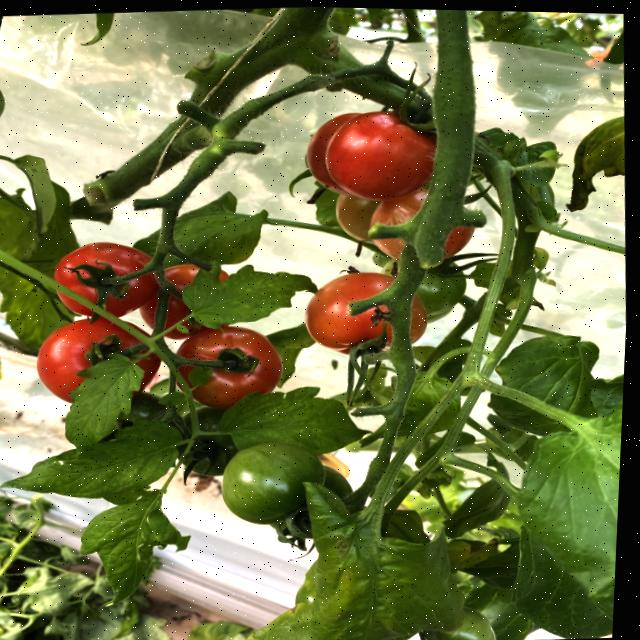ripe2: (325, 109, 431, 203), (54, 240, 159, 318), (180, 327, 283, 401), (37, 316, 161, 371)
